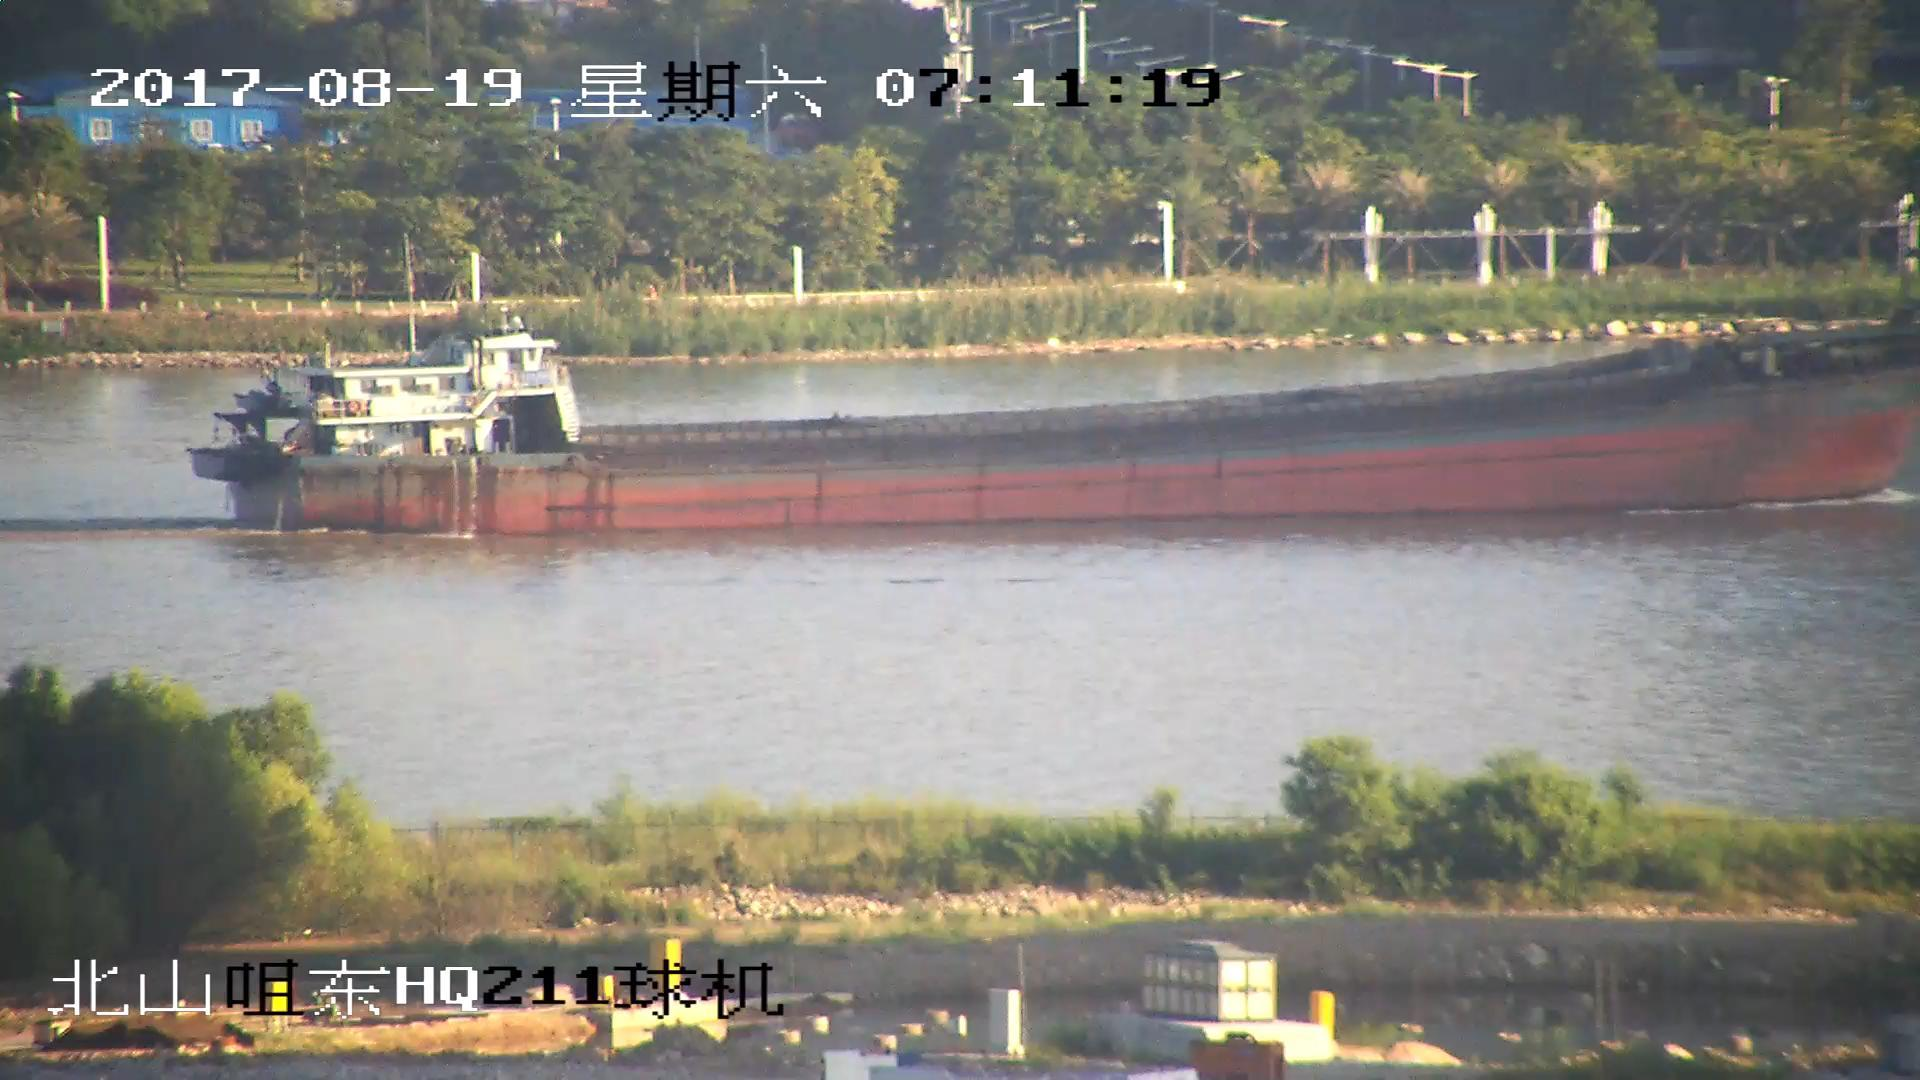Ship: (198, 305, 1920, 537)
